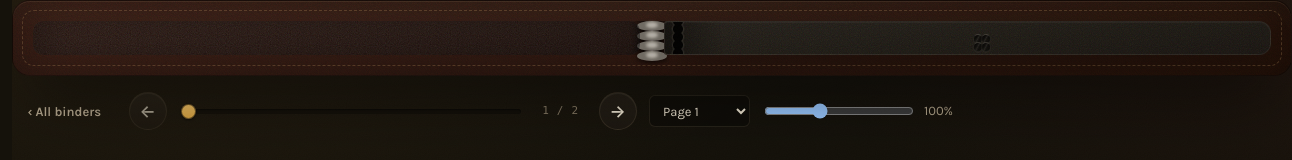
Test: BinderView › advancing to the next spread shows pages 2 and 3 together
Step 1. Click the button named "next page" → (618, 111), box [598,92,636,130]
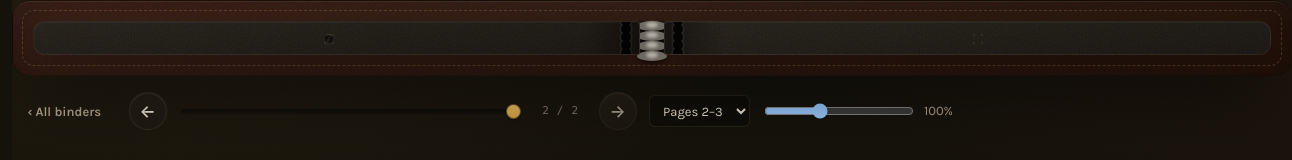
expect the element named "page 3" is shown: met, box [664,21,1271,55]
expect the element named "page 2" is shown: met, box [33,21,640,55]
